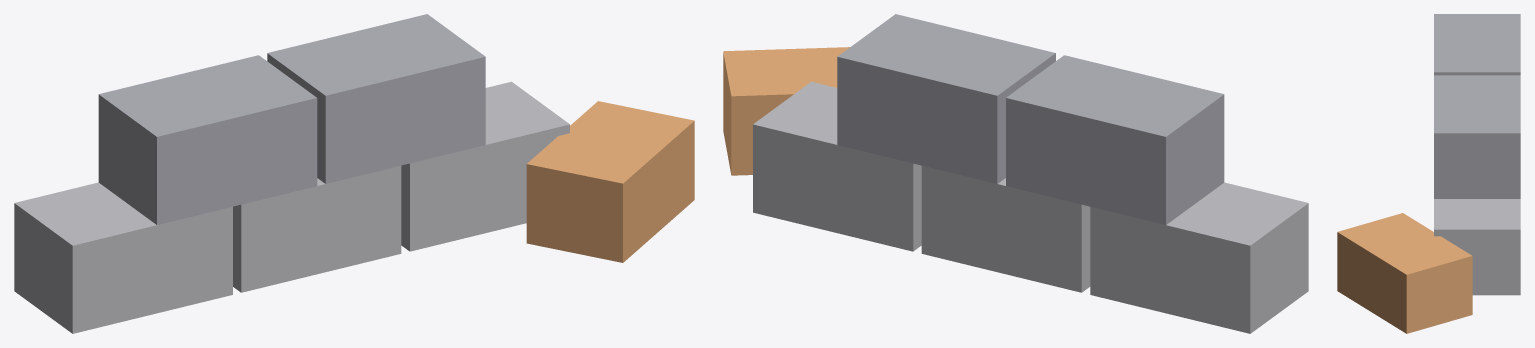
File: piedra.glb
3 renders of one model, left to right at view 1: azimuth 30°, elevation 25°; view 2: azimuth 150°, elevation 25°; view 3: azimuth 270°, elevation 25°, orthographic. The views are drawn at different scales.
Visible parts, largest first — view 1: piedra; view 2: piedra; view 3: piedra.
Part boxes in pixels (x1,y1,x2,y2): piedra: (14, 14, 694, 333); piedra: (723, 14, 1308, 333); piedra: (1337, 14, 1520, 333).
Bounding box in the file's own units: 0.7162 × 0.2 × 0.2534.
